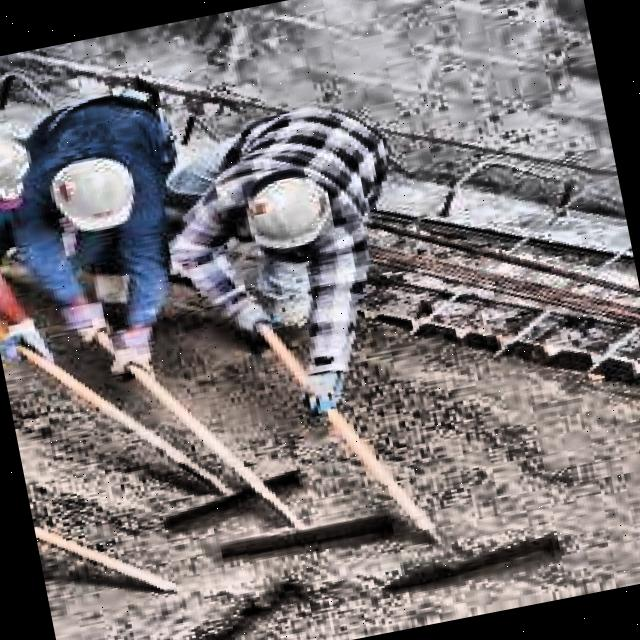helmet: (34, 138, 149, 246), (237, 161, 339, 265)
